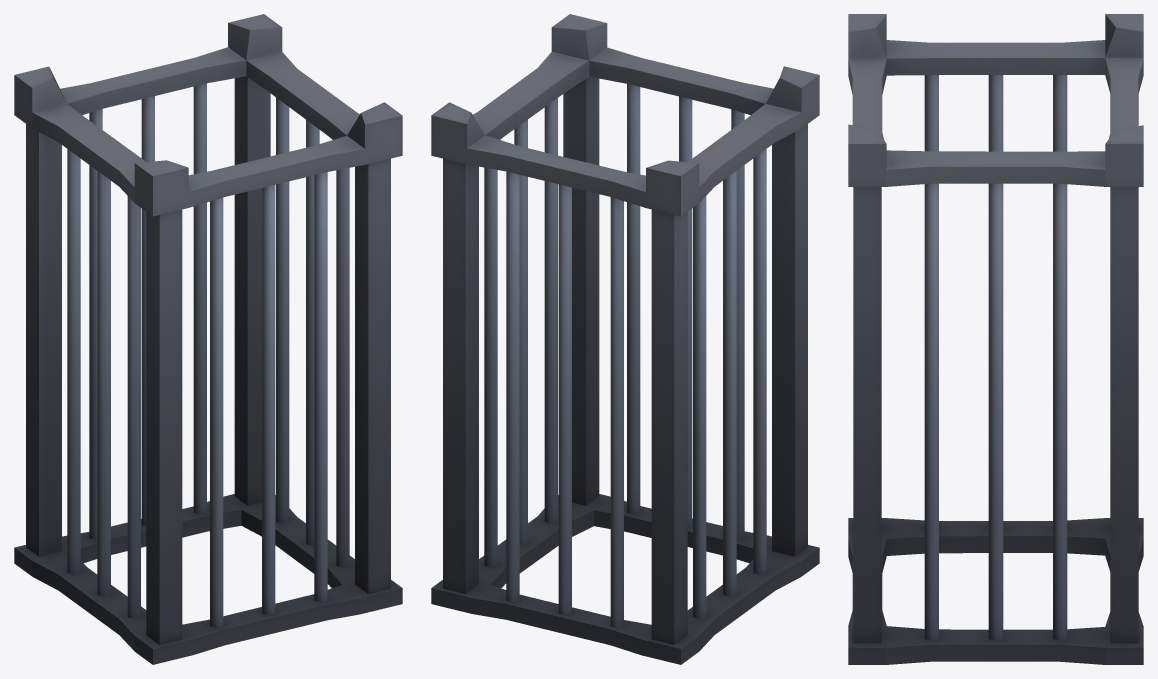
File: Cage.fbx
3 views of the same model, side by side, from view 1: azimuth 30°, elevation 25°; view 2: azimuth 150°, elevation 25°; view 3: azimuth 270°, elevation 25° (orthographic). The views are drawn at different scales.
Parts seen in each view (by area): view 1: Cage; view 2: Cage; view 3: Cage.
Boxes of the visible parts, x1,y1,x2,y2 form: Cage: (14, 14, 402, 664); Cage: (431, 14, 819, 664); Cage: (848, 14, 1143, 664).
Size of the model in its own units: 9.57 by 17.9 by 9.2.
1 material, 1 textured.
